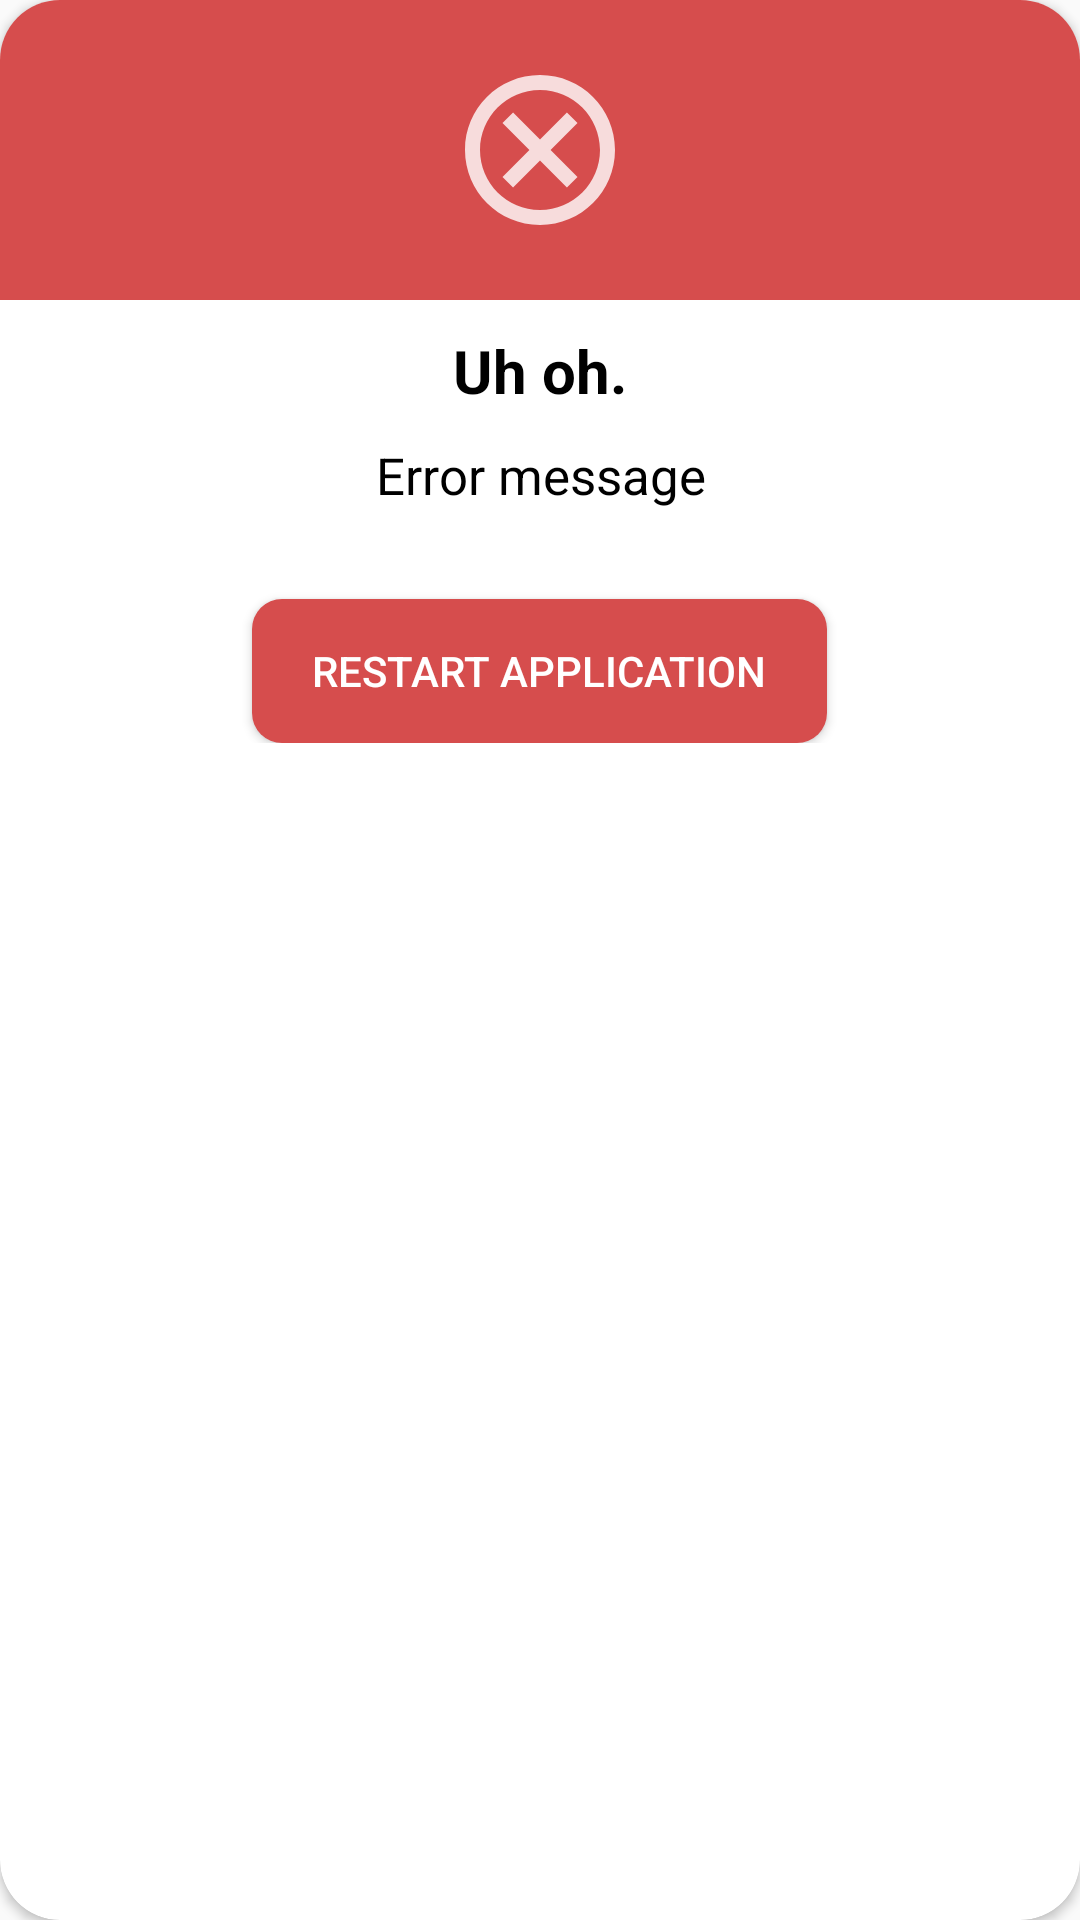

Icons on this 1080 x 1920 Android screen, each with its box as (x1, y1, x2, y2):
close: (465, 75, 615, 225)
